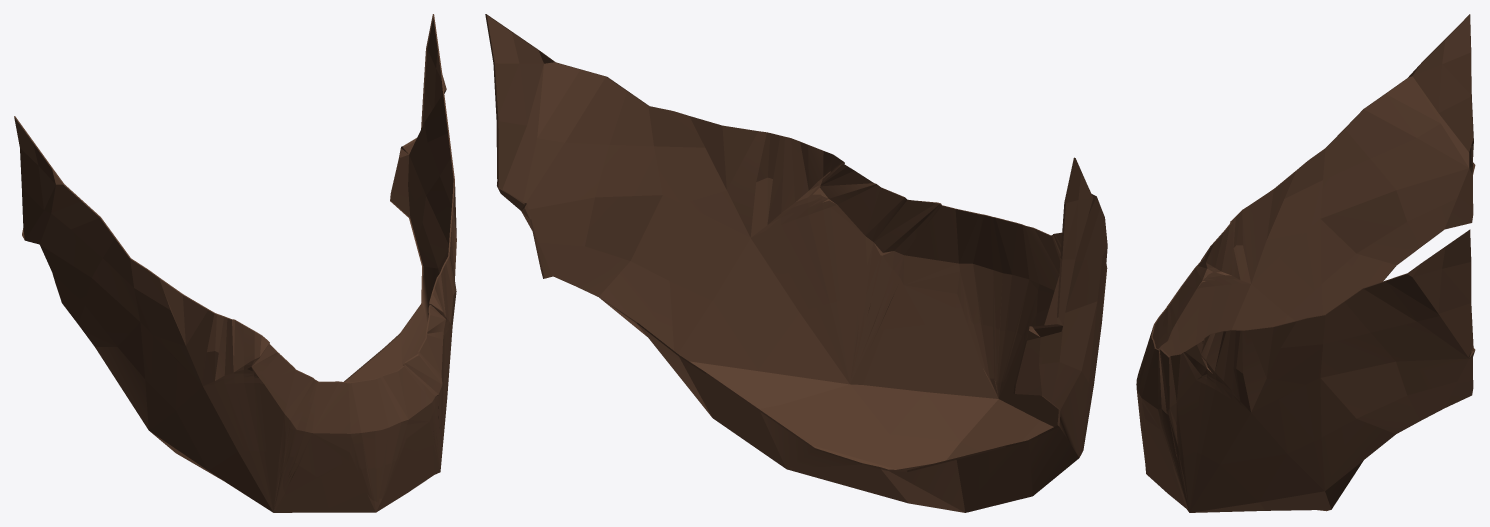
File: longa_blocada.glb
3 renders of one model, left to right at view 1: azimuth 30°, elevation 25°; view 2: azimuth 150°, elevation 25°; view 3: azimuth 270°, elevation 25°, orthographic. The views are drawn at different scales.
Visible parts, largest first — view 1: EA_longa_blocada; view 2: EA_longa_blocada; view 3: EA_longa_blocada.
Part boxes in pixels (<box>): EA_longa_blocada: <box>14,14,456,512</box>; EA_longa_blocada: <box>485,14,1107,512</box>; EA_longa_blocada: <box>1136,14,1475,512</box>.
Size of the model in its own units: 0.2132 by 0.1766 by 0.1414.
